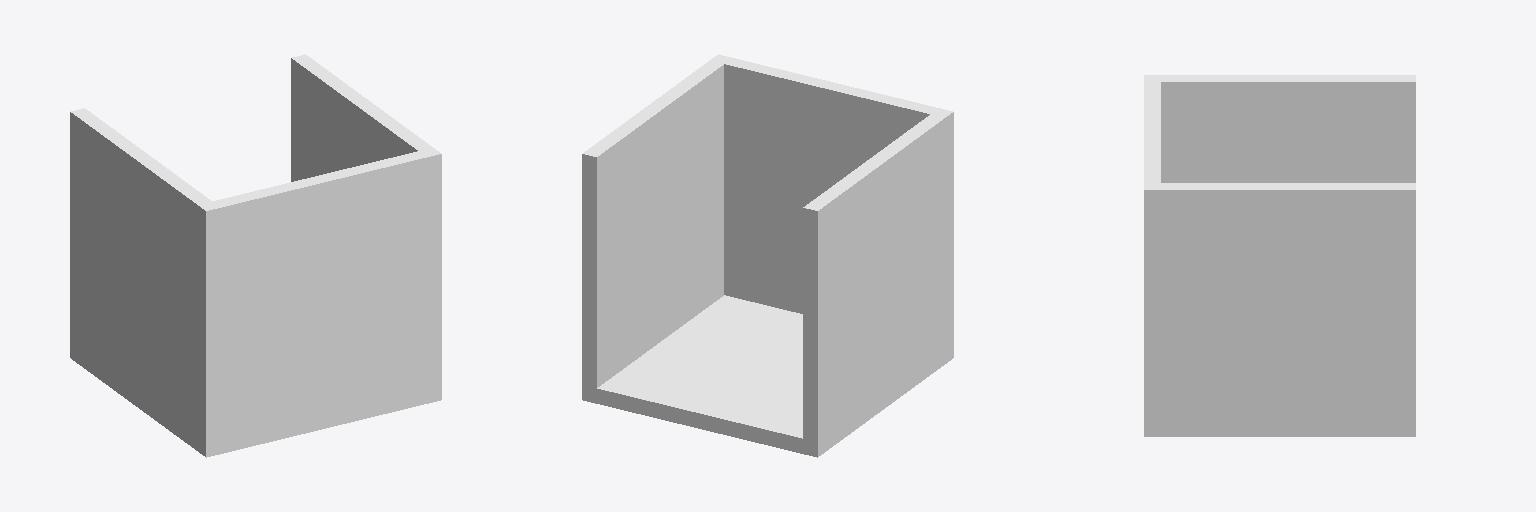
Rendered from dungeon_end.obj.
The picture shows the model from 3 angles: view 1: azimuth 30°, elevation 25°; view 2: azimuth 150°, elevation 25°; view 3: azimuth 270°, elevation 25°; orthographic projection.
Visible parts, largest first — view 1: object 1; view 2: object 1; view 3: object 1.
Boxes of the visible parts, x1=… form: object 1: x1=70, y1=54, x2=441, y2=457; object 1: x1=582, y1=54, x2=953, y2=457; object 1: x1=1144, y1=75, x2=1415, y2=436.
Bounding box in the file's own units: 1.6 × 1.6 × 1.6.